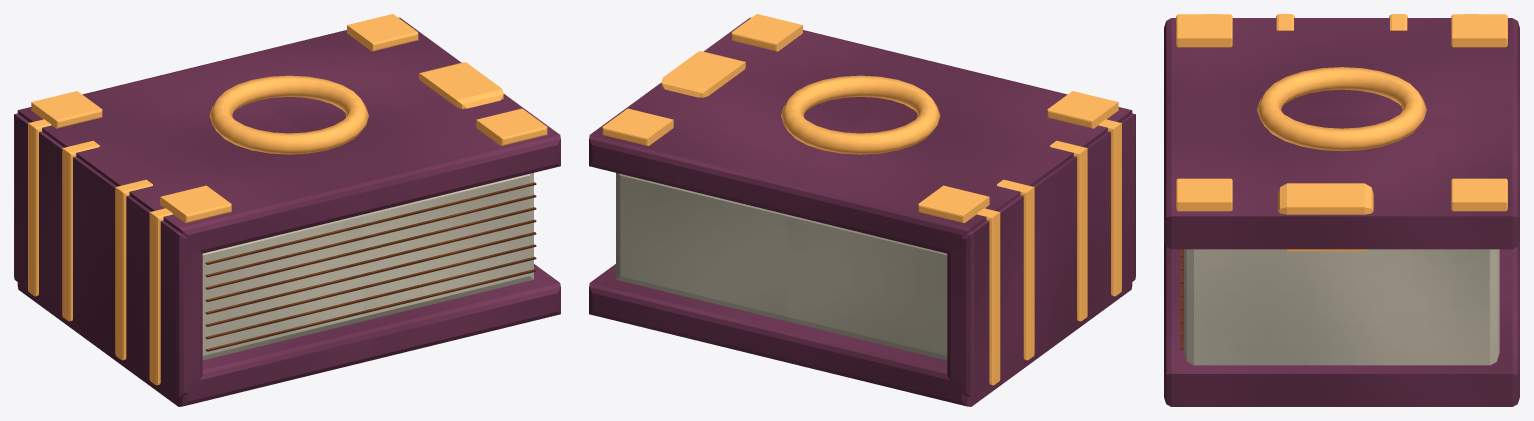
File: hollowwick-halloween-clasped-ritual-grimoire-3775986a__21610.glb
The picture shows the model from 3 angles, left to right: view 1: azimuth 30°, elevation 25°; view 2: azimuth 150°, elevation 25°; view 3: azimuth 270°, elevation 25°; orthographic projection. The views are drawn at different scales.
Visible parts, largest first — view 1: clasped-ritual-grimoire; view 2: clasped-ritual-grimoire; view 3: clasped-ritual-grimoire.
Boxes of the visible parts, <box> form: clasped-ritual-grimoire: <box>14,14,560,406</box>; clasped-ritual-grimoire: <box>589,14,1135,406</box>; clasped-ritual-grimoire: <box>1164,14,1519,406</box>.
Size of the model in its own units: 0.5895 by 0.283 by 0.44.
Materials: 4 (3 with a texture image).
